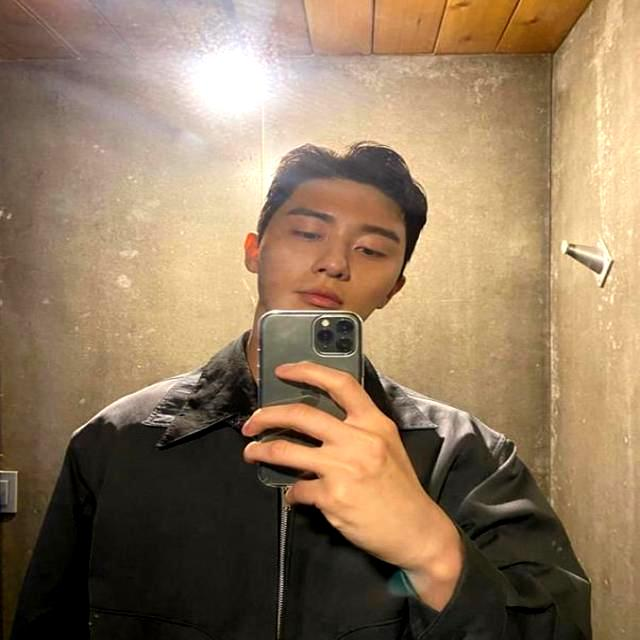lens_back: (335, 320, 355, 335), (336, 338, 354, 353), (317, 329, 334, 344)
phone: (260, 310, 363, 486)
